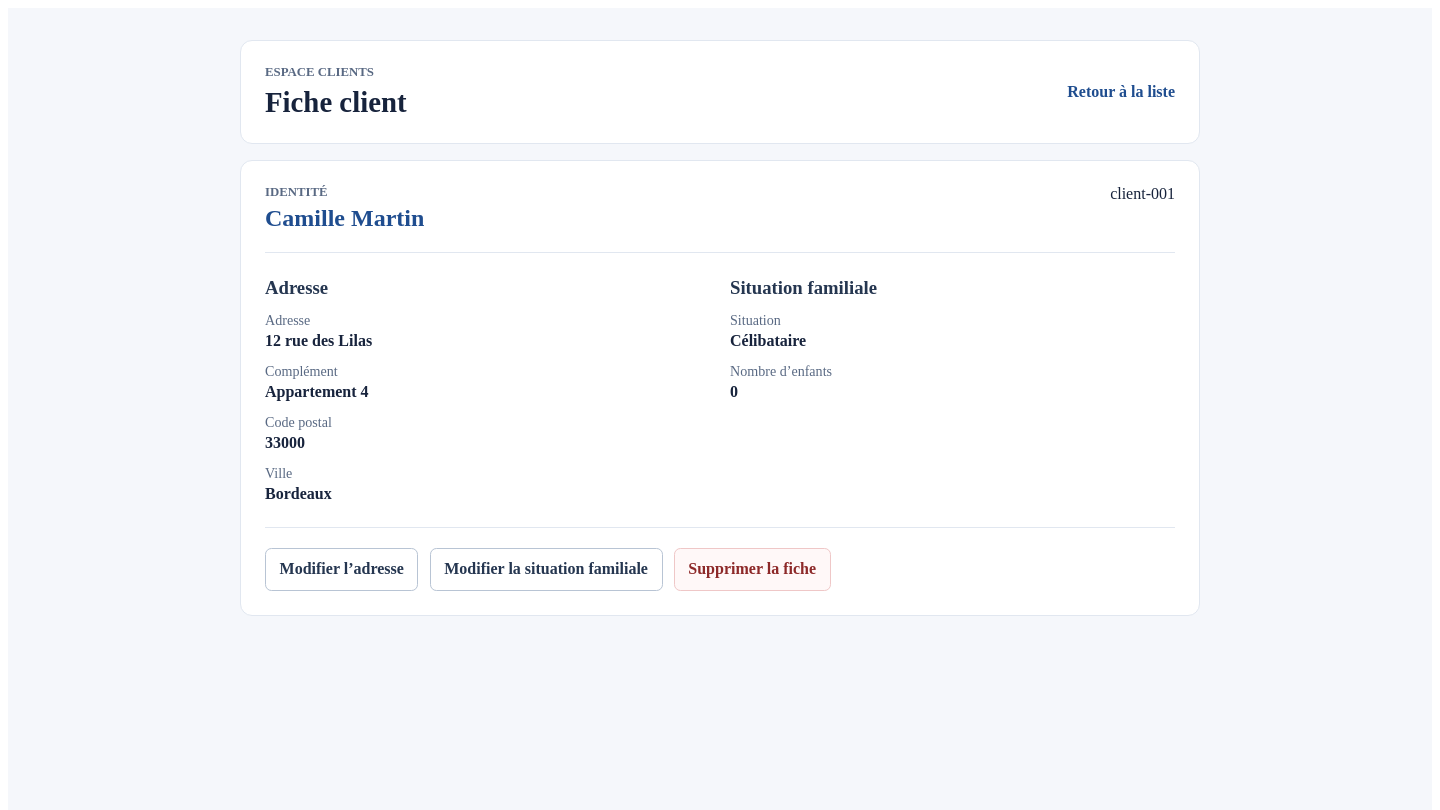
Test case: ClientDetailPageComponent › opens the address dialog with the current values
Click the button "Modifier l’adresse". click: (342, 569)
box: top-left (265, 548), bottom-right (418, 590)
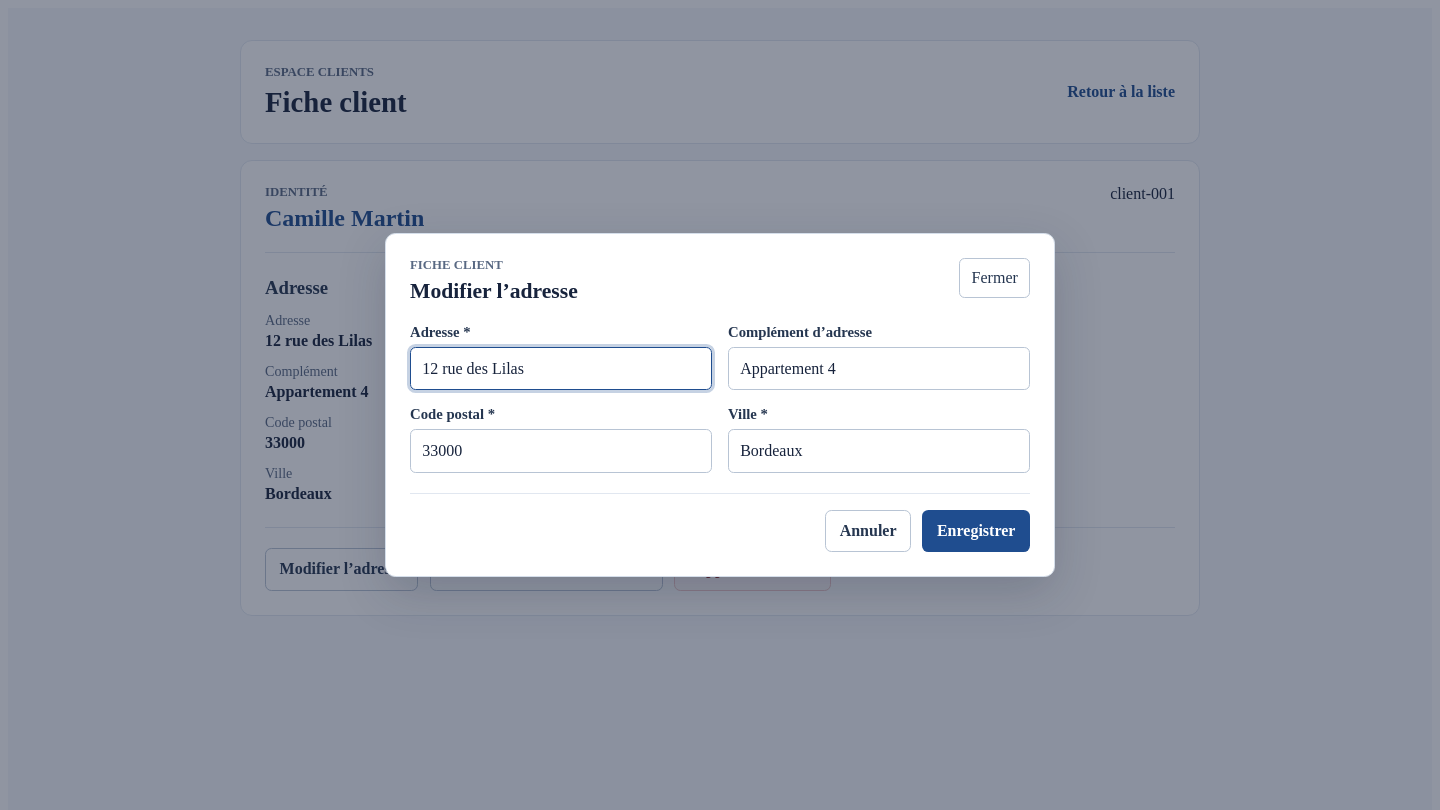
Expected: the text "12 rue des Lilas" is shown, top-left (265, 332), bottom-right (372, 349)
Expected: the dialog is shown, top-left (385, 233), bottom-right (1055, 577)
